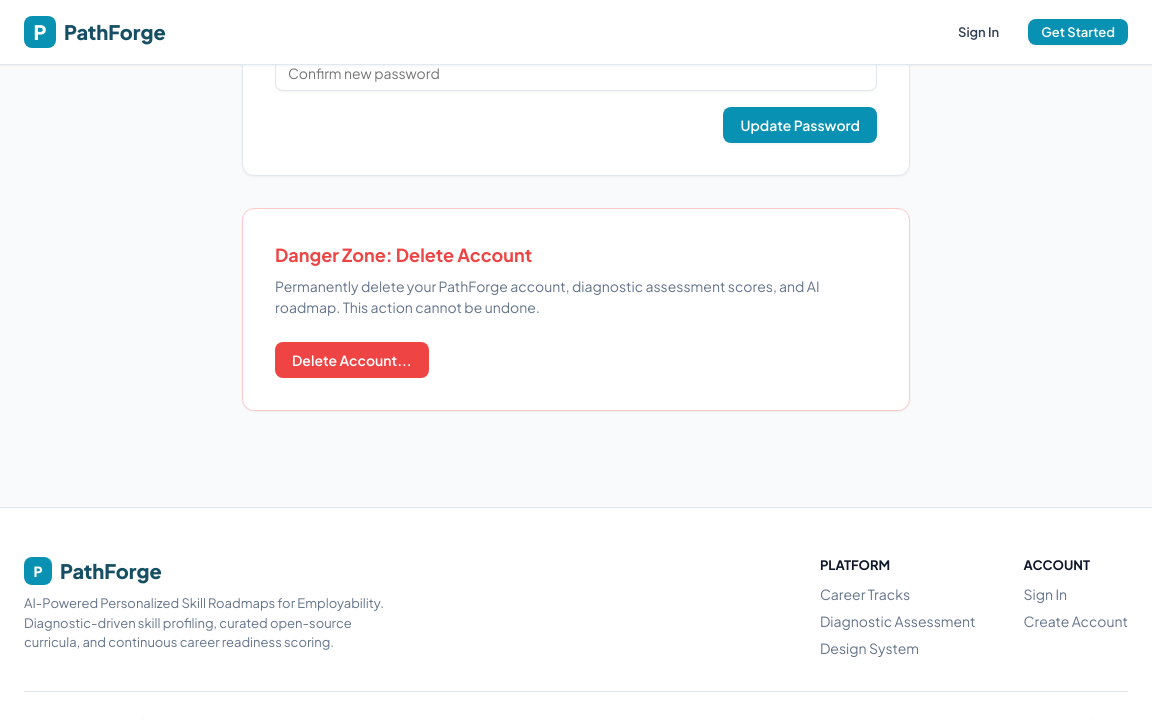
Test: Dashboard, Module Detail & Settings Workflows › 3. Settings Page: Validation, Role Change, and Delete Modal › opens delete account modal, requires password, and redirects to landing upon deletion
(page scrolled)
Note: Click to open modal
Click the button "Delete Account...": (352, 360) [275,342,429,378]
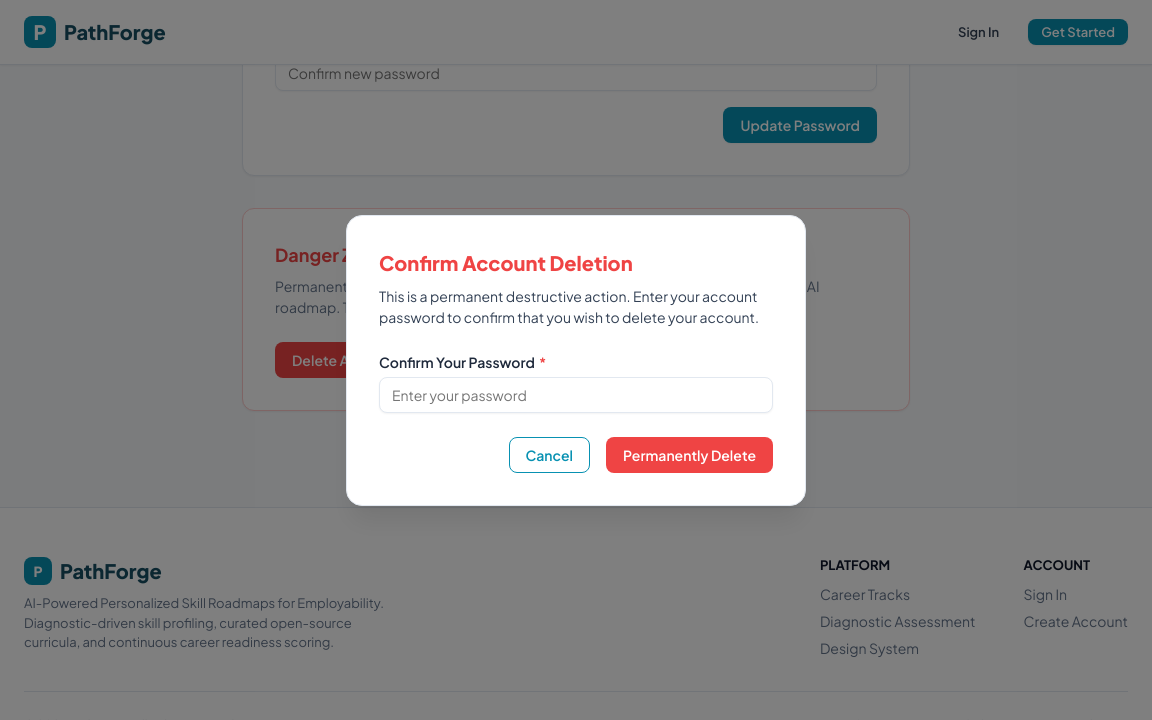
Expected: the dialog is shown
Expected: the heading "Confirm Account Deletion" is shown, [379,250,633,274]
Note: Submit without password
Click the button "Permanently Delete": (690, 454) [606,436,773,472]
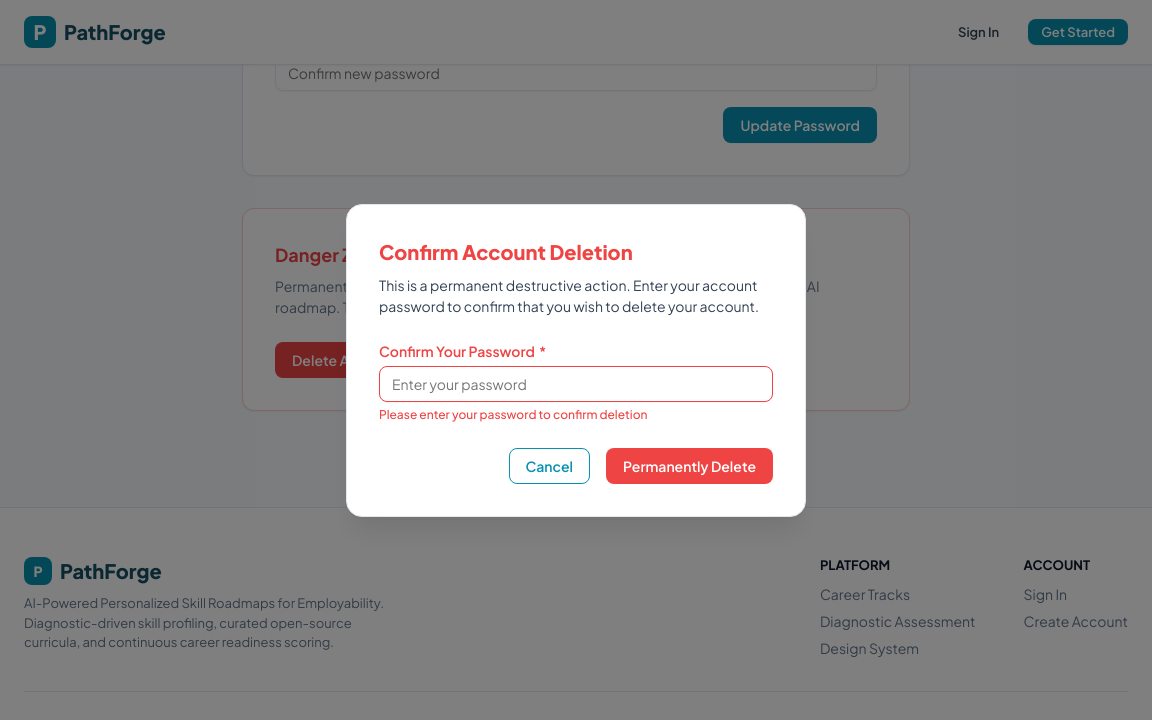
Expected: the text "Please enter your password to confirm deletion" is shown, [379,406,648,422]
Note: Enter password and confirm deletion
In the password field labelled "Confirm Your Password *": (576, 384) [379,366,773,402], type "Password123"
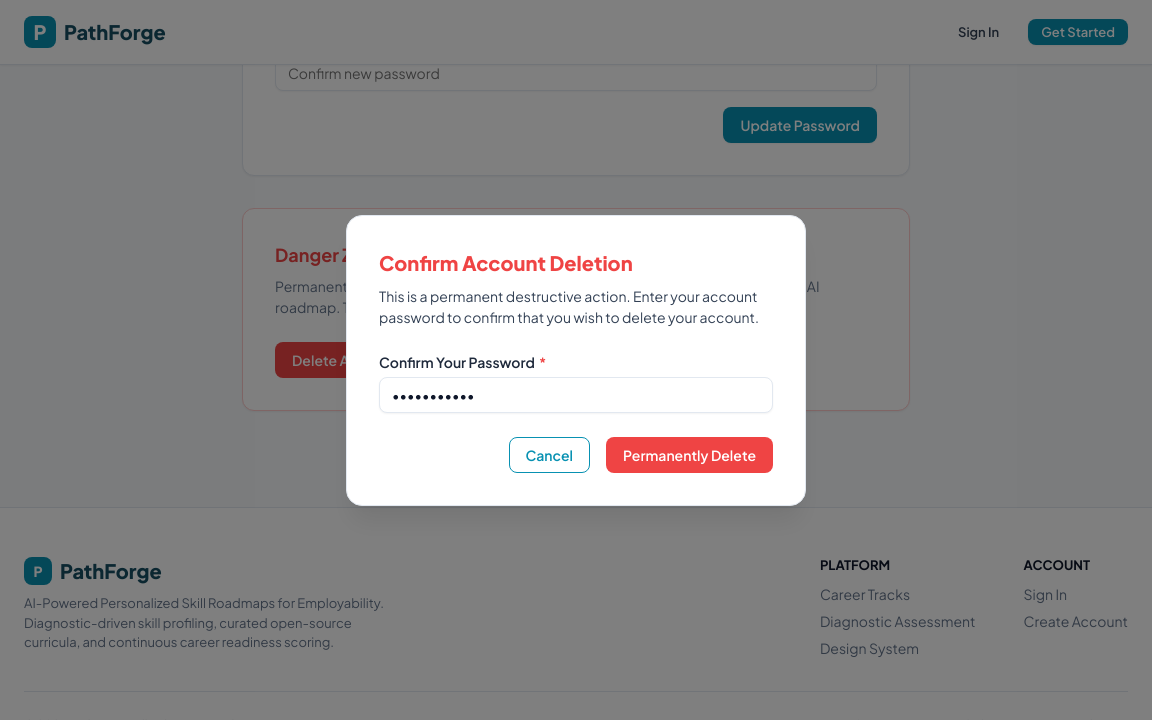
Click the button "Permanently Delete": (690, 454) [606,436,773,472]
(page scrolled)
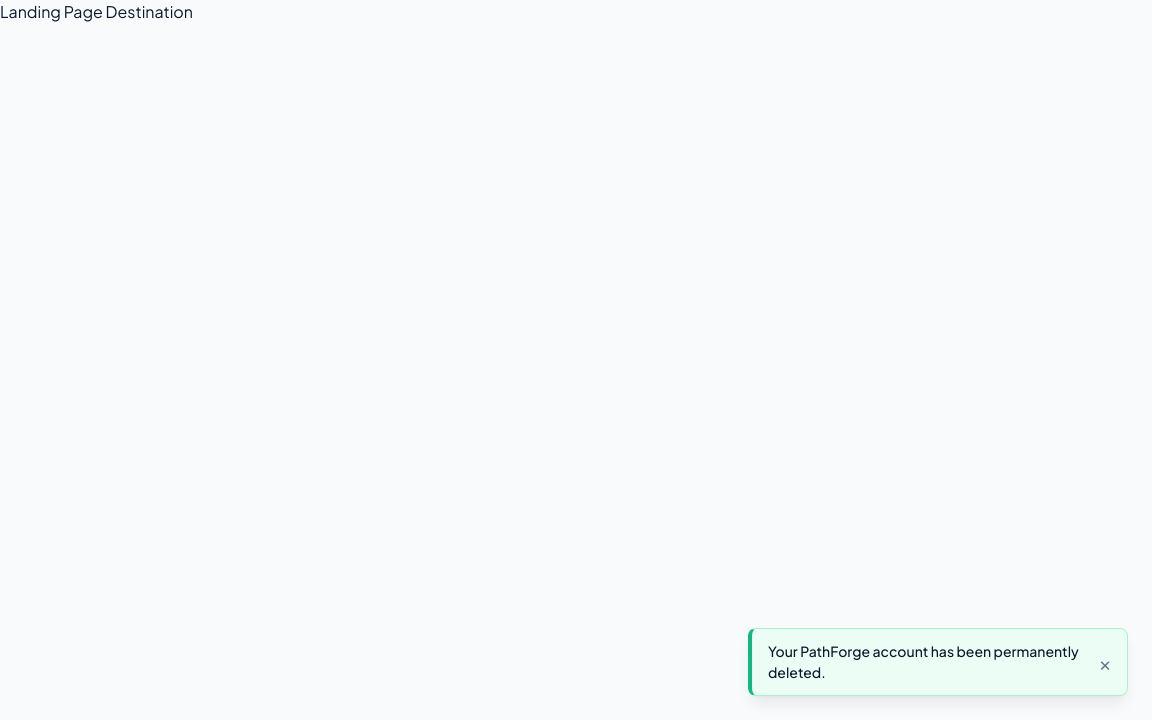
Expected: the text "Landing Page Destination" is shown, [0,1,193,22]
